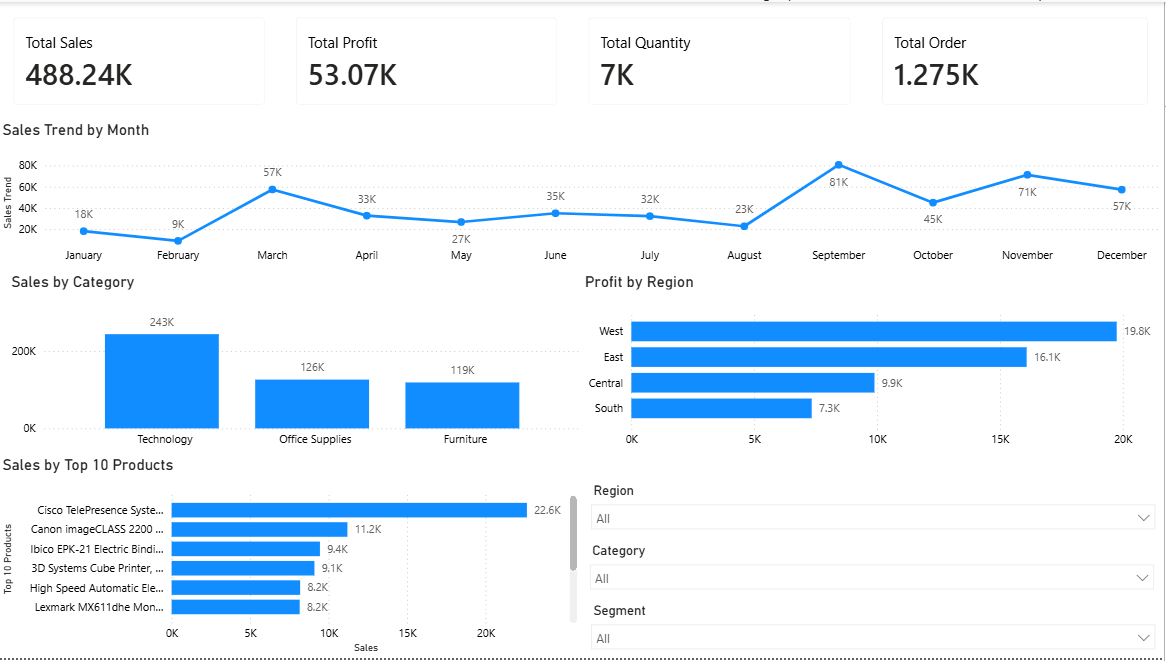

This screenshot's page, from the dashboard's own definition file:
{"tool":"powerbi","page":{"name":"Sales Performance Dashboard","canvas":[1280,720],"ordinal":0},"visuals":[{"type":"cardVisual","fields":{"Data":["Sum(Superstore Sales csv.Sales)"]},"box":[0,0,310.1,130.4],"z":0},{"type":"cardVisual","fields":{"Data":["Sum(Superstore Sales csv.Profit)"]},"box":[310.1,0,321.1,130.4],"z":1000},{"type":"cardVisual","fields":{"Data":["Sum(Superstore Sales csv.Quantity)"]},"box":[631.2,0,322.5,130.4],"z":2000},{"type":"cardVisual","fields":{"Data":["Count(Superstore Sales csv.Order ID)"]},"box":[953.7,0,326.6,130.4],"z":3000},{"type":"lineChart","fields":{"Y":["Sum(Superstore Sales csv.Sales)"],"Category":["Superstore Sales csv.Order Date.Variation.Date Hierarchy.Month"]},"box":[0,130.4,1280.3,166],"z":4000},{"type":"clusteredColumnChart","fields":{"Category":["Superstore Sales csv.Category"],"Y":["Sum(Superstore Sales csv.Sales)"]},"box":[9.6,296.4,640.8,201.7],"z":5000},{"type":"barChart","fields":{"Category":["Superstore Sales csv.Region"],"Y":["Sum(Superstore Sales csv.Profit)"]},"box":[639.5,296.4,640.8,201.7],"z":6000},{"type":"barChart","fields":{"Category":["Superstore Sales csv.Product Name"],"Y":["Sum(Superstore Sales csv.Sales)"]},"box":[0,498.1,640.8,222.3],"z":7000},{"type":"slicer","fields":{"Values":["Superstore Sales csv.Region"]},"box":[640.8,522.8,639.5,65.9],"z":8000},{"type":"slicer","fields":{"Values":["Superstore Sales csv.Category"]},"box":[639.5,588.7,639.5,65.9],"z":9000},{"type":"slicer","fields":{"Values":["Superstore Sales csv.Segment"]},"box":[640.8,654.5,639.5,65.9],"z":10000}]}

Visuals, with their boxes in screenshot pixels (x1, y1, x2, y2), scaled from the page's 1280x720 canvas onto the 1166x661 screenshot:
cardVisual - Sum(Superstore Sales csv.Sales): 0 0 282 120
cardVisual - Sum(Superstore Sales csv.Profit): 282 0 575 120
cardVisual - Sum(Superstore Sales csv.Quantity): 575 0 869 120
cardVisual - Count(Superstore Sales csv.Order ID): 869 0 1165 120
lineChart - Sum(Superstore Sales csv.Sales) x Superstore Sales csv.Order Date.Variation.Date Hierarchy.Month: 0 120 1165 272
clusteredColumnChart - Superstore Sales csv.Category x Sum(Superstore Sales csv.Sales): 9 272 592 457
barChart - Superstore Sales csv.Region x Sum(Superstore Sales csv.Profit): 583 272 1165 457
barChart - Superstore Sales csv.Product Name x Sum(Superstore Sales csv.Sales): 0 457 584 660
slicer - Superstore Sales csv.Region: 584 480 1165 540
slicer - Superstore Sales csv.Category: 583 540 1165 601
slicer - Superstore Sales csv.Segment: 584 601 1165 660
